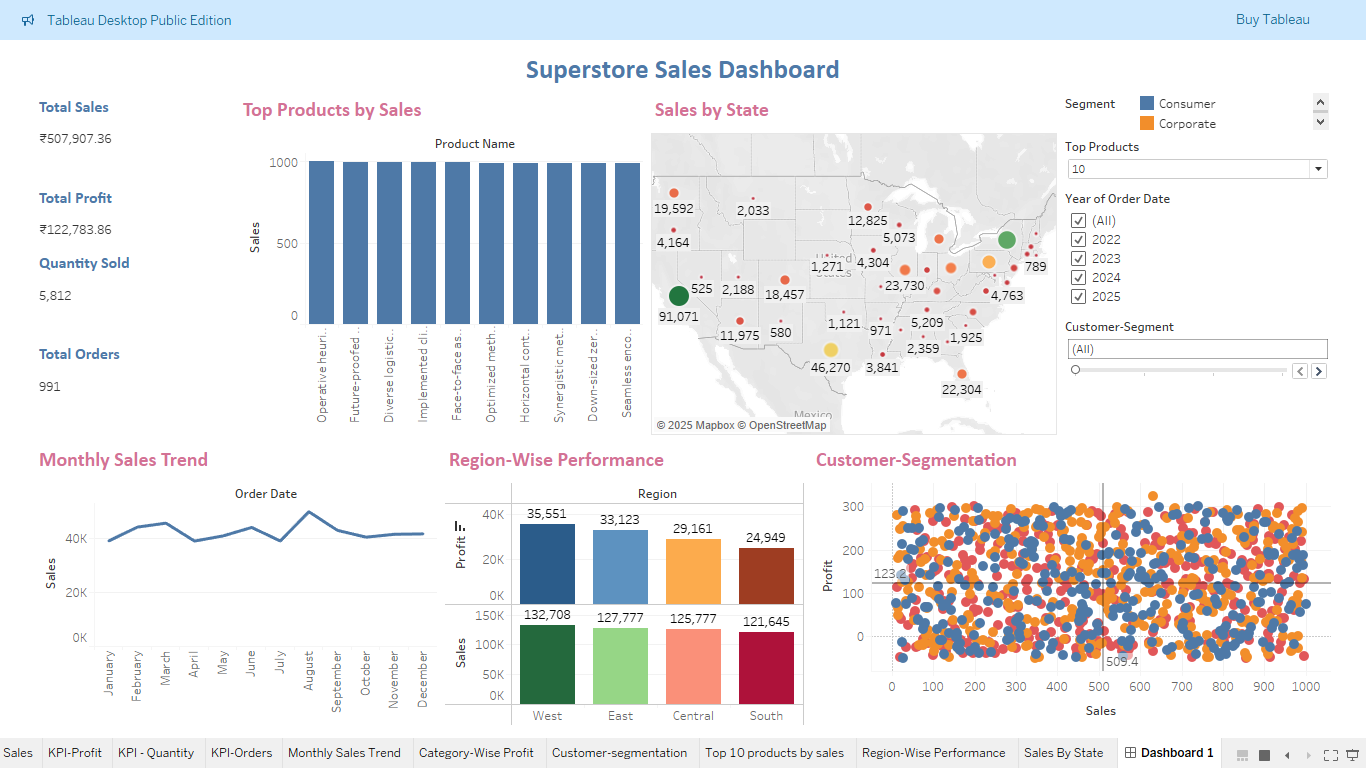

The dashboard page shown, as its layout file describes it:
{"tool":"tableau","page":{"name":"Dashboard 1","canvas":[1000,1000],"units":"permille","ordinal":0},"visuals":[{"type":"title","box":[6.9,14.5,986.3,74.3]},{"type":"worksheet","title":"KPI- Sales","mark":"Automatic","box":[6.9,88.8,154,127.6]},{"type":"worksheet","title":"Top 10 products by sales","mark":"Automatic","rows":["Sales"],"cols":["Product_Name"],"box":[160.8,88.8,312.1,489.7]},{"type":"worksheet","title":"Sales By State ","mark":"Automatic","box":[472.9,88.8,313.3,489.7]},{"type":"legend","title":"Customer-segmentation","param":"[federated.0515h8m1aoghcm1aeiwgn1olal3a].[none:Segment:nk]","box":[786.3,88.8,206.9,81.5]},{"type":"parameter","param":"[Parameters].[Parameter 1]","box":[786.3,170.3,206.9,88.2]},{"type":"worksheet","title":"KPI-Profit","mark":"Automatic","box":[6.9,216.3,154,108.6]},{"type":"filter","title":"Region-Wise Performance","param":"[federated.0515h8m1aoghcm1aeiwgn1olal3a].[yr:Order_Date:ok]","box":[786.3,258.4,206.9,231.9]},{"type":"worksheet","title":"KPI - Quantity","mark":"Automatic","box":[6.9,325,154,108.6]},{"type":"worksheet","title":"KPI-Orders","mark":"Automatic","box":[6.9,433.6,154,144.9]},{"type":"filter","title":"Region-Wise Performance","param":"[federated.0515h8m1aoghcm1aeiwgn1olal3a].[none:Segment:nk]","box":[786.3,490.3,206.9,88.2]},{"type":"worksheet","title":"Monthly Sales Trend","mark":"Line","rows":["Sales"],"cols":["Order_Date"],"box":[6.9,578.5,310.4,407]},{"type":"worksheet","title":"Region-Wise Performance","mark":"Automatic","rows":["Profit","Sales"],"cols":["Region"],"box":[317.3,578.5,314.8,407]},{"type":"worksheet","title":"Customer-segmentation","mark":"Circle","rows":["Profit"],"cols":["Sales"],"box":[632.1,578.5,361.1,407]}]}

Visuals, with their boxes on the dashboard's canvas, which has no fixed pixel size, in thousandths of its width and height (x1, y1, x2, y2). These are canvas units, not pixel positions in the 1366x768 screenshot, which may show the page scaled, cropped or inside an application window:
title: [x1=7, y1=14, x2=993, y2=89]
"KPI- Sales" worksheet: [x1=7, y1=89, x2=161, y2=216]
"Top 10 products by sales" worksheet: [x1=161, y1=89, x2=473, y2=578]
"Sales By State " worksheet: [x1=473, y1=89, x2=786, y2=578]
"Customer-segmentation" legend: [x1=786, y1=89, x2=993, y2=170]
parameter: [x1=786, y1=170, x2=993, y2=258]
"KPI-Profit" worksheet: [x1=7, y1=216, x2=161, y2=325]
"Region-Wise Performance" filter: [x1=786, y1=258, x2=993, y2=490]
"KPI - Quantity" worksheet: [x1=7, y1=325, x2=161, y2=434]
"KPI-Orders" worksheet: [x1=7, y1=434, x2=161, y2=578]
"Region-Wise Performance" filter: [x1=786, y1=490, x2=993, y2=578]
"Monthly Sales Trend" worksheet (Line marks): [x1=7, y1=578, x2=317, y2=986]
"Region-Wise Performance" worksheet: [x1=317, y1=578, x2=632, y2=986]
"Customer-segmentation" worksheet (Circle marks): [x1=632, y1=578, x2=993, y2=986]
